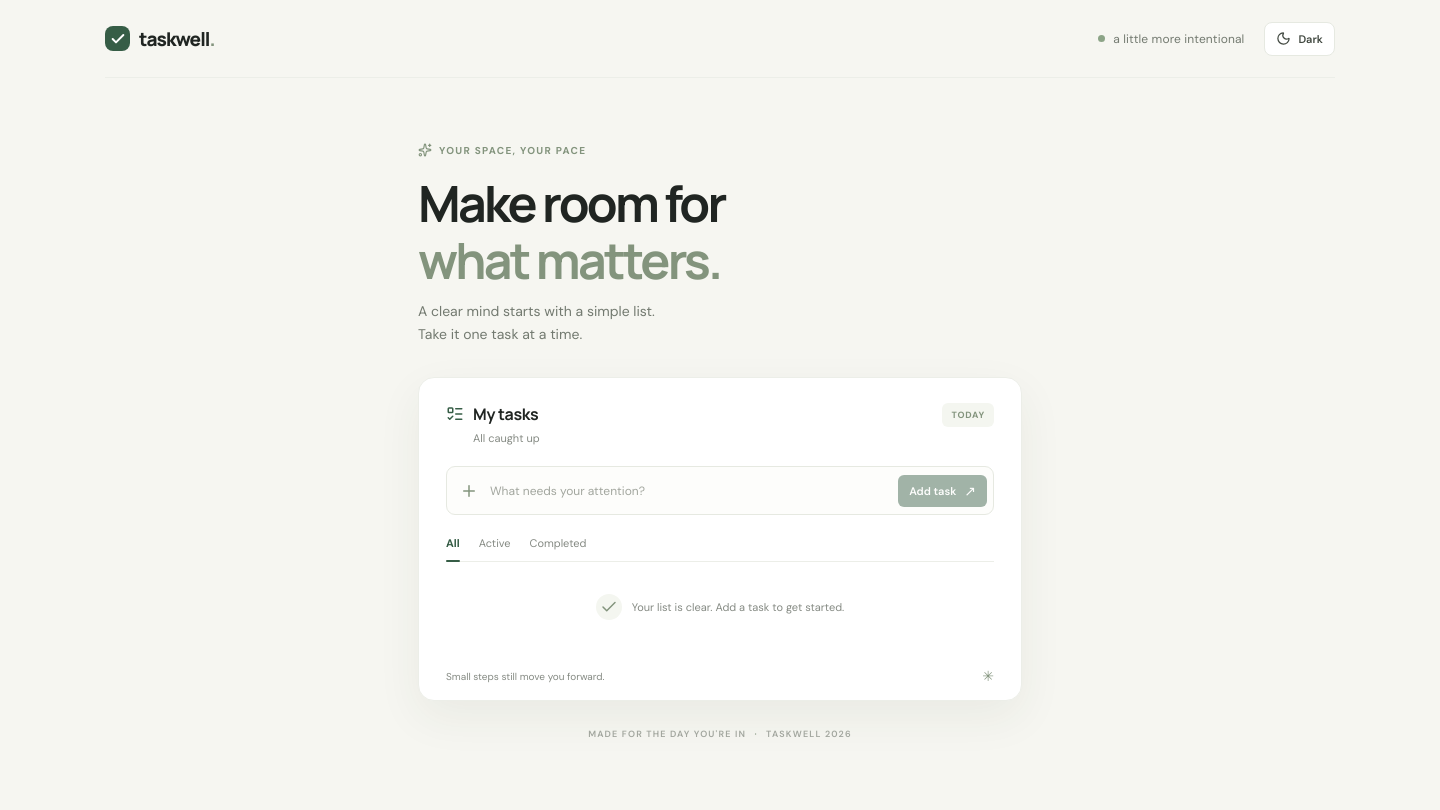
Test: Taskwell › adds a task and saves it in local storage
Type "Write unit tests" into the field named "Add a task" at (688, 491), box [488, 467, 888, 514]
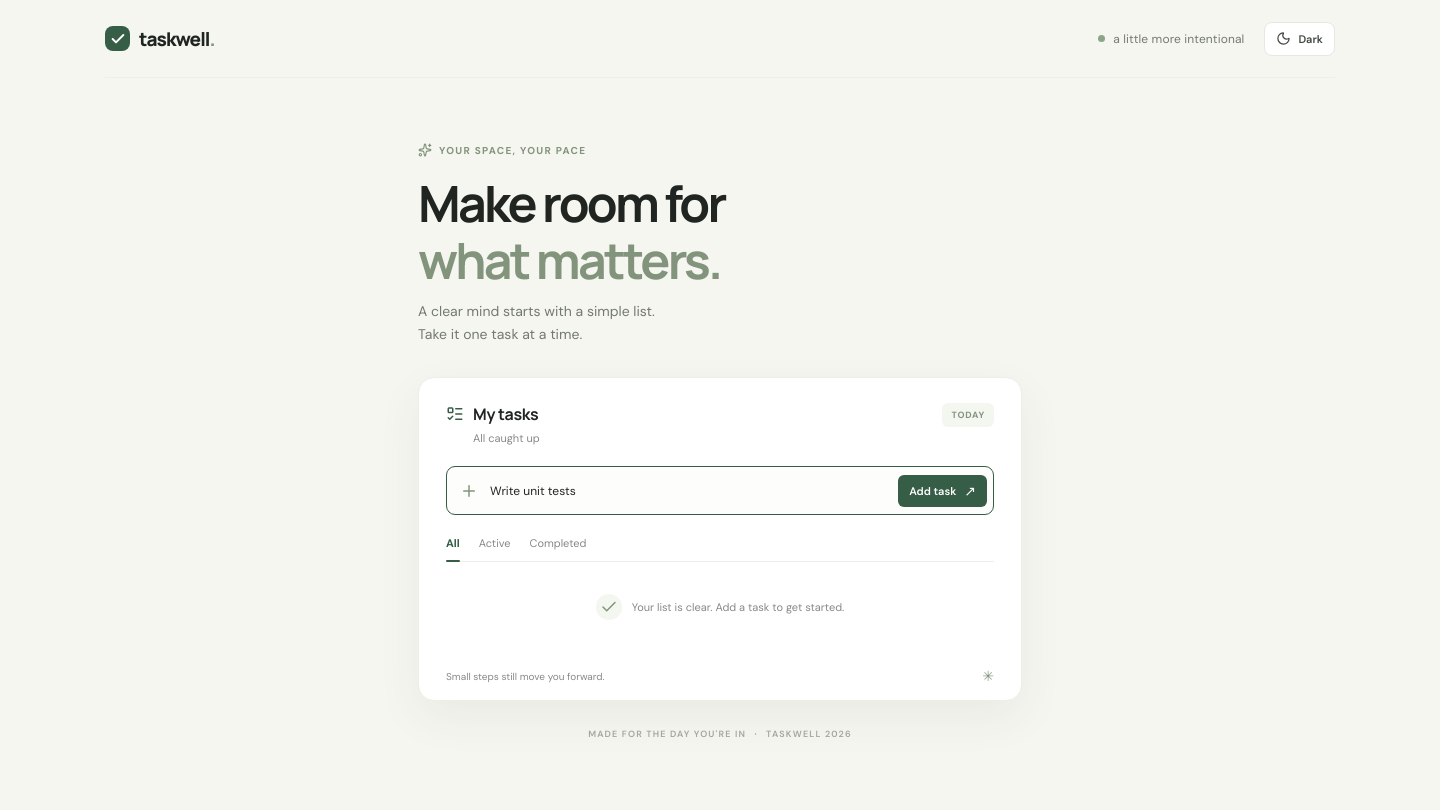
Click the button "Add task ↗" at (943, 491), box [898, 475, 987, 507]
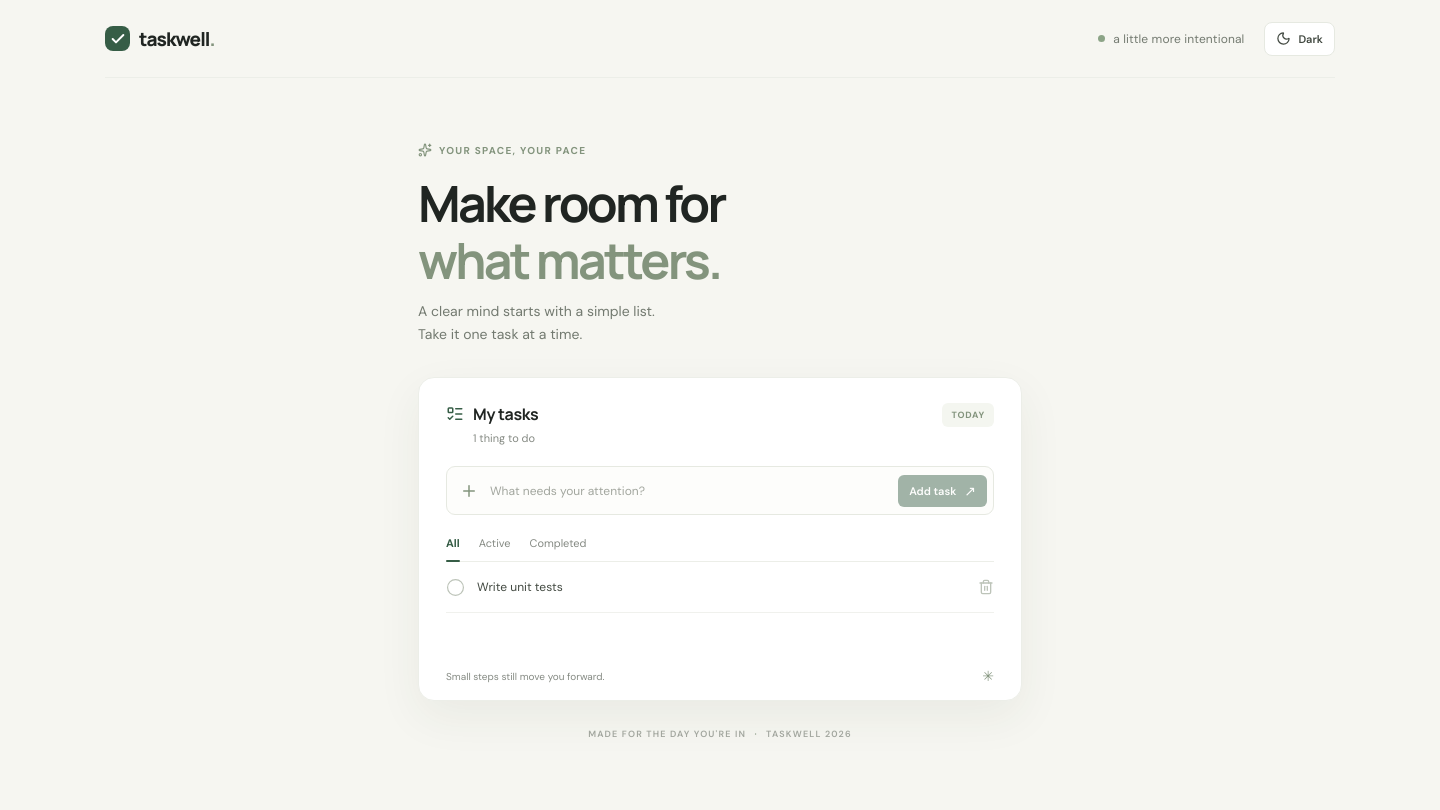
Check: the text "Write unit tests" is shown, box [477, 579, 563, 595]
